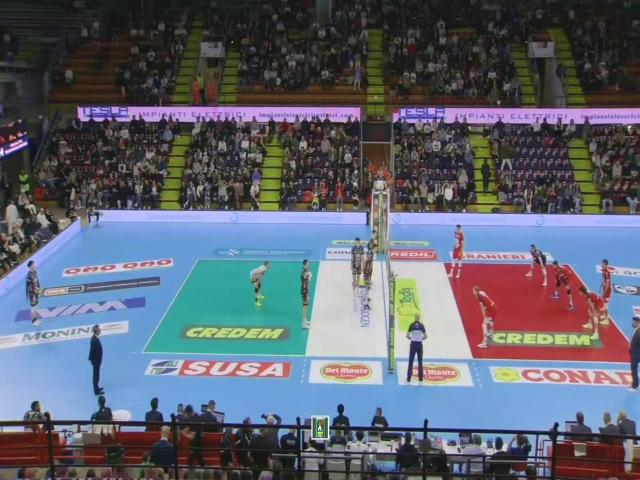volleyball court: (145, 256, 639, 366)
